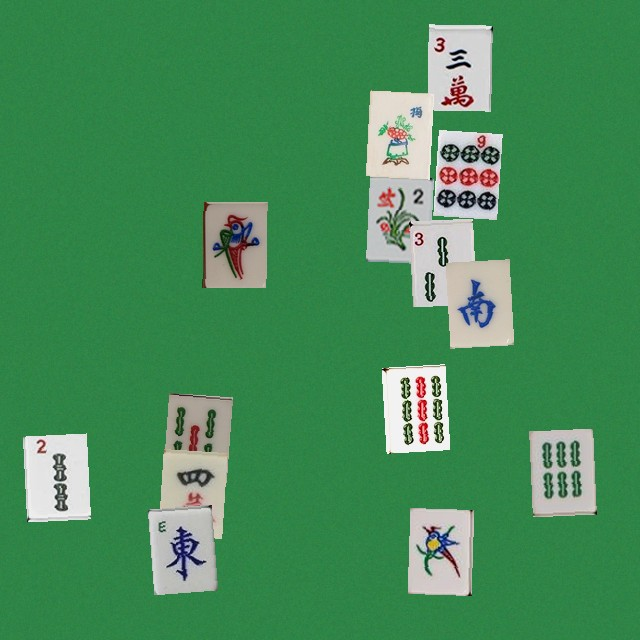tile: (427, 24, 491, 110), (433, 129, 497, 215), (202, 201, 266, 287), (162, 392, 226, 478), (158, 449, 222, 535), (407, 507, 471, 593), (529, 428, 593, 514), (365, 175, 429, 261), (365, 90, 429, 176), (147, 504, 211, 590), (409, 218, 473, 304), (445, 259, 509, 345), (381, 364, 445, 450), (22, 433, 86, 519)
